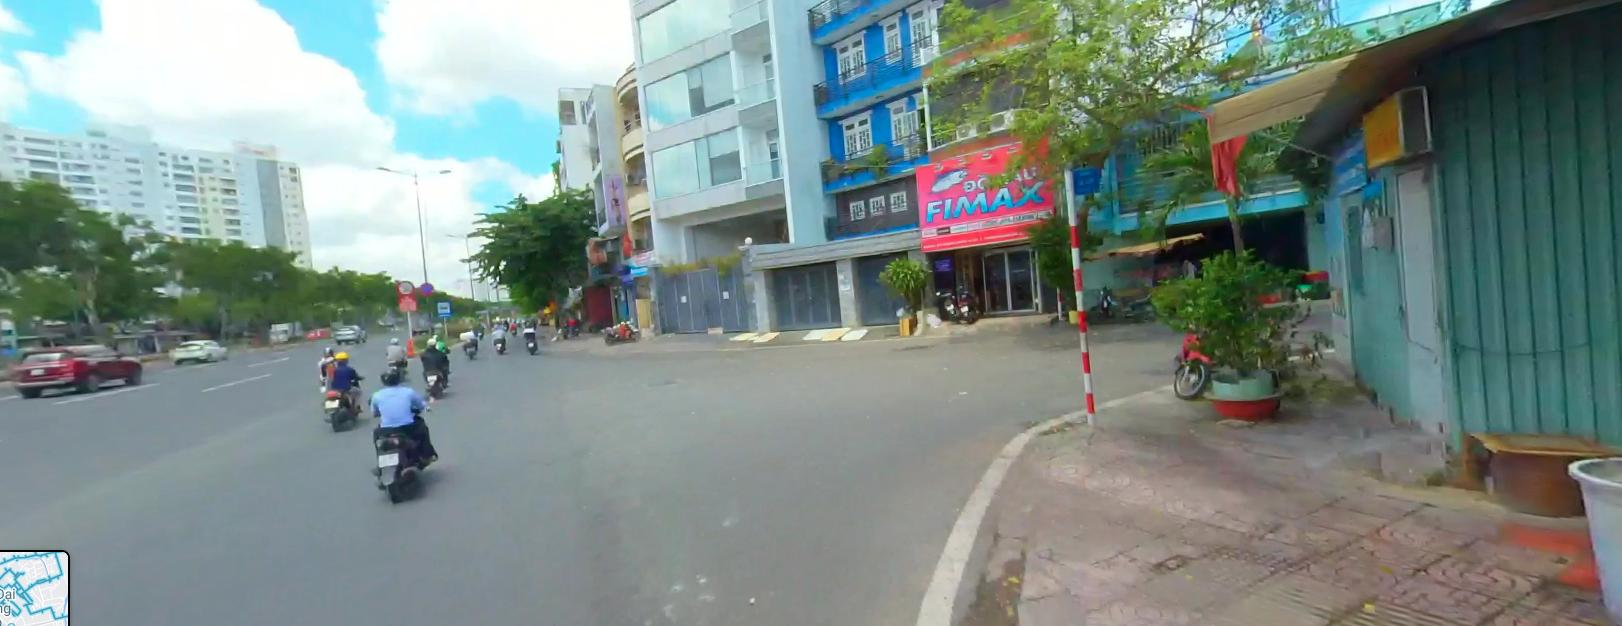Cam con lai: (395, 294, 420, 312), (394, 279, 413, 291)
Cam dung va do: (417, 280, 435, 295)
